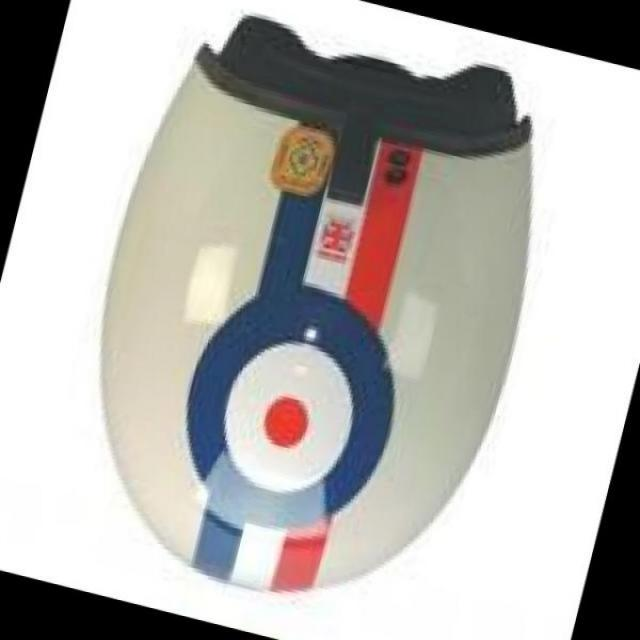Helmet: (99, 7, 531, 596)
